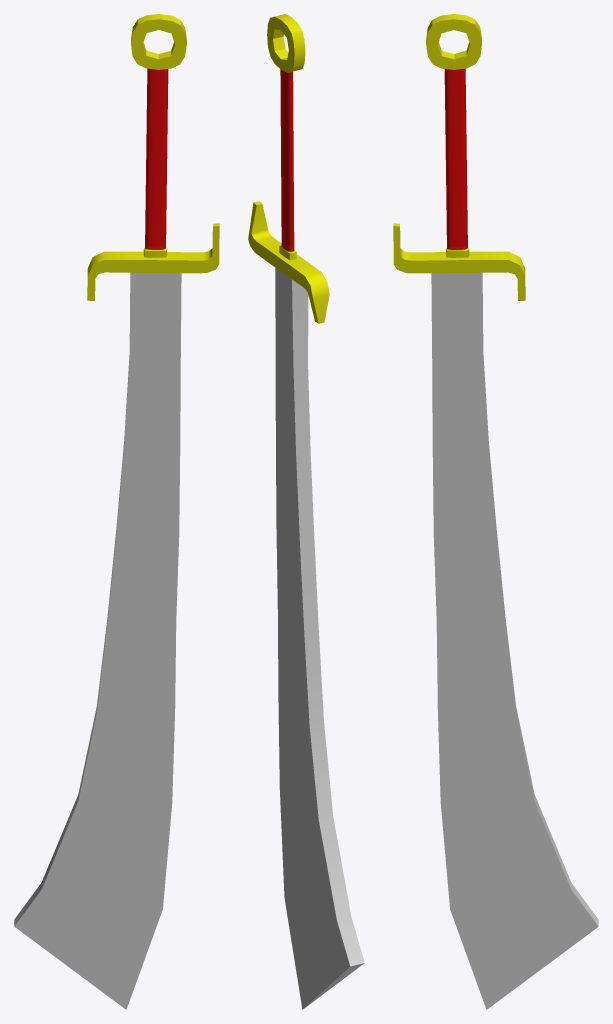
Rendered from FireSword.fbx.
3 views of the same model, side by side, from view 1: azimuth 90°, elevation 25°; view 2: azimuth 210°, elevation 25°; view 3: azimuth 270°, elevation 25° (orthographic).
Parts seen in each view (by area): view 1: FireSword; view 2: FireSword; view 3: FireSword.
Part boxes in pixels (x1,y1,x2,y2): FireSword: [14, 14, 219, 1009]; FireSword: [248, 14, 364, 1009]; FireSword: [393, 14, 598, 1009].
Bounding box in the file's own units: 16.87 × 945 × 177.
